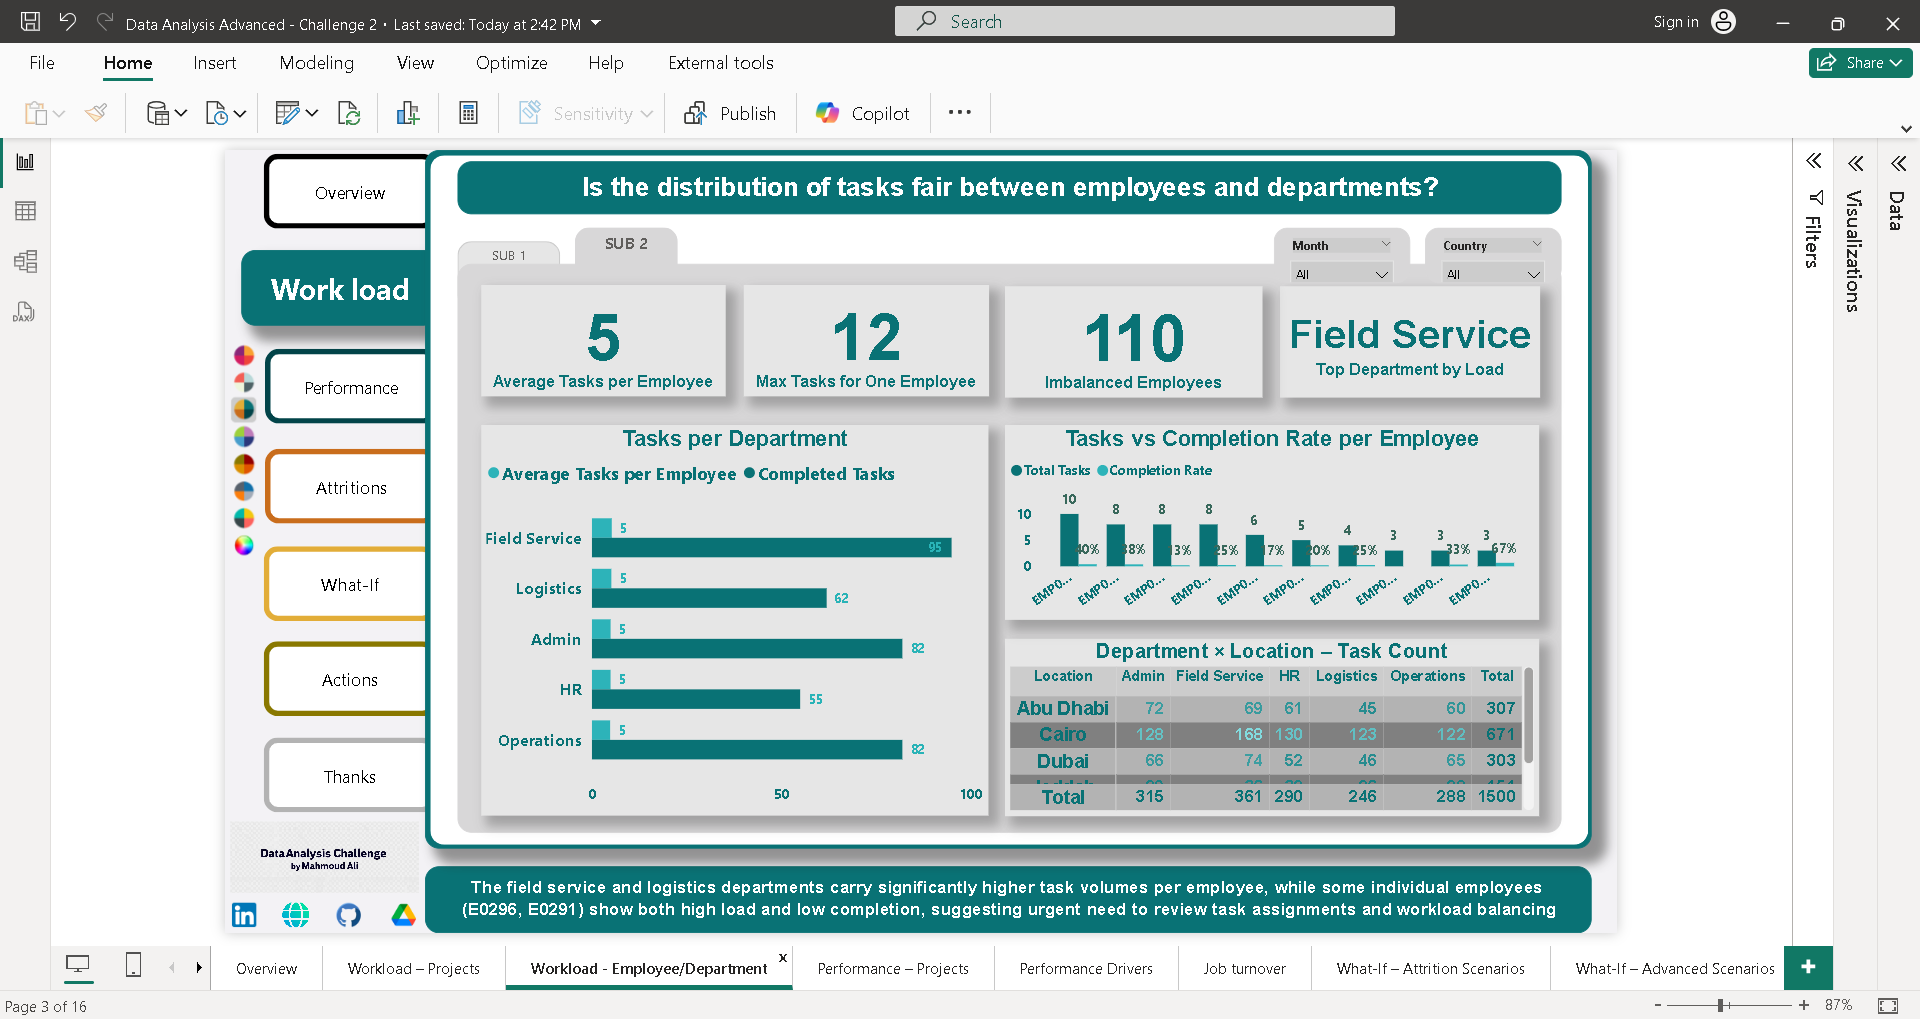

The dashboard page shown, as its layout file describes it:
{"tool":"powerbi","page":{"name":"Workload - Employee/Department ","canvas":[1280,720],"ordinal":2},"visuals":[{"type":"ChicletSlicer1448559807354","fields":{"Category":["Sheet1.Color Scheme"],"Image":["Sheet1.URL"]},"box":[0,170.9,34.9,227.9],"z":0},{"type":"image","box":[0,612.2,183.7,75.7],"z":1000},{"type":"image","box":[146.2,687.5,37.5,32.5],"z":2000},{"type":"image","box":[90,687.5,48.8,32.5],"z":3000},{"type":"image","box":[47.5,687.5,36.2,32.5],"z":4000},{"type":"image","box":[0,687.5,35,32.5],"z":5000},{"type":"textbox","box":[183.7,659,1073.1,61.2],"z":6000},{"type":"actionButton","title":"Button","box":[36.7,274.4,158.9,68.9],"z":7000},{"type":"actionButton","title":"Button","box":[35.6,364.4,158.9,68.9],"z":8000},{"type":"actionButton","box":[36.7,182.2,158.9,68.9],"z":9000},{"type":"actionButton","title":"Button","box":[15.1,91.9,180.2,69.8],"z":10000},{"type":"actionButton","title":"Button","box":[35.6,3.3,158.9,68.9],"z":11000},{"type":"actionButton","title":"Button","box":[35.6,452.2,158.9,68.9],"z":12000},{"type":"actionButton","title":"Button","box":[35.6,540,158.9,68.9],"z":13000},{"type":"actionButton","box":[183.7,0,1073.1,642.3],"z":14000},{"type":"actionButton","box":[213.7,83.5,94.6,62.3],"z":15000},{"type":"actionButton","box":[321.7,71.2,94.6,56.8],"z":16000},{"type":"basicShape","box":[213.7,104.6,1015.2,523.2],"z":17000},{"type":"card","fields":{"Values":["Measures Table.Average Tasks per Employee"]},"box":[236,124.7,224.9,102.4],"z":18000},{"type":"card","fields":{"Values":["Measures Table.Max Tasks for One Employee"]},"box":[477.6,124.7,226,102.4],"z":19000},{"type":"clusteredBarChart","title":"Tasks per Department","fields":{"Category":["Advanced_Employees.Department"],"Y":["Measures Table.Average Tasks per Employee","Measures Table.Completed Tasks"]},"box":[236,252.7,466.4,359.6],"z":20000},{"type":"pivotTable","title":"Department × Location – Task Count","fields":{"Values":["Measures Table.Total Tasks"],"Rows":["Advanced_Projects.Location"],"Columns":["Advanced_Employees.Department"]},"box":[717.8,449.7,491.1,162.9],"z":21000},{"type":"clusteredColumnChart","title":"Tasks vs Completion Rate per Employee","fields":{"Y":["Measures Table.Total Tasks","Measures Table.Completion Rate"],"Category":["Advanced_Employees.Employee ID"]},"box":[717.8,253,491.1,179.1],"z":22000},{"type":"textbox","box":[213.7,10,1015.2,49],"z":23000},{"type":"card","fields":{"Values":["Measures Table.Top Department by Load"]},"box":[969.6,125.3,239.3,102.7],"z":24000},{"type":"card","fields":{"Values":["Measures Table.Imbalanced Employees"]},"box":[717.8,125.3,236.8,102.7],"z":25000},{"type":"slicer","fields":{"Values":["Advanced_Employees.Country"]},"box":[1103.6,71.4,125.3,51.4],"z":26000},{"type":"slicer","fields":{"Values":["Advanced_Employees.Date of Joining.Variation.Date Hierarchy.Month"]},"box":[964.6,71.4,125.3,51.4],"z":27000}]}

Visuals, with their boxes on the page's 1280x720 design canvas (x1, y1, x2, y2). These are canvas units, not pixel positions in the 1920x1019 screenshot, which may show the page scaled, cropped or inside an application window:
ChicletSlicer1448559807354 - Sheet1.Color Scheme x Sheet1.URL: locate(0, 171, 35, 399)
image: locate(0, 612, 184, 688)
image: locate(146, 688, 184, 720)
image: locate(90, 688, 139, 720)
image: locate(48, 688, 84, 720)
image: locate(0, 688, 35, 720)
textbox: locate(184, 659, 1257, 720)
"Button" actionButton: locate(37, 274, 196, 343)
"Button" actionButton: locate(36, 364, 194, 433)
actionButton: locate(37, 182, 196, 251)
"Button" actionButton: locate(15, 92, 195, 162)
"Button" actionButton: locate(36, 3, 194, 72)
"Button" actionButton: locate(36, 452, 194, 521)
"Button" actionButton: locate(36, 540, 194, 609)
actionButton: locate(184, 0, 1257, 642)
actionButton: locate(214, 84, 308, 146)
actionButton: locate(322, 71, 416, 128)
basicShape: locate(214, 105, 1229, 628)
card - Measures Table.Average Tasks per Employee: locate(236, 125, 461, 227)
card - Measures Table.Max Tasks for One Employee: locate(478, 125, 704, 227)
"Tasks per Department" clusteredBarChart: locate(236, 253, 702, 612)
"Department × Location – Task Count" pivotTable: locate(718, 450, 1209, 613)
"Tasks vs Completion Rate per Employee" clusteredColumnChart: locate(718, 253, 1209, 432)
textbox: locate(214, 10, 1229, 59)
card - Measures Table.Top Department by Load: locate(970, 125, 1209, 228)
card - Measures Table.Imbalanced Employees: locate(718, 125, 955, 228)
slicer - Advanced_Employees.Country: locate(1104, 71, 1229, 123)
slicer - Advanced_Employees.Date of Joining.Variation.Date Hierarchy.Month: locate(965, 71, 1090, 123)
